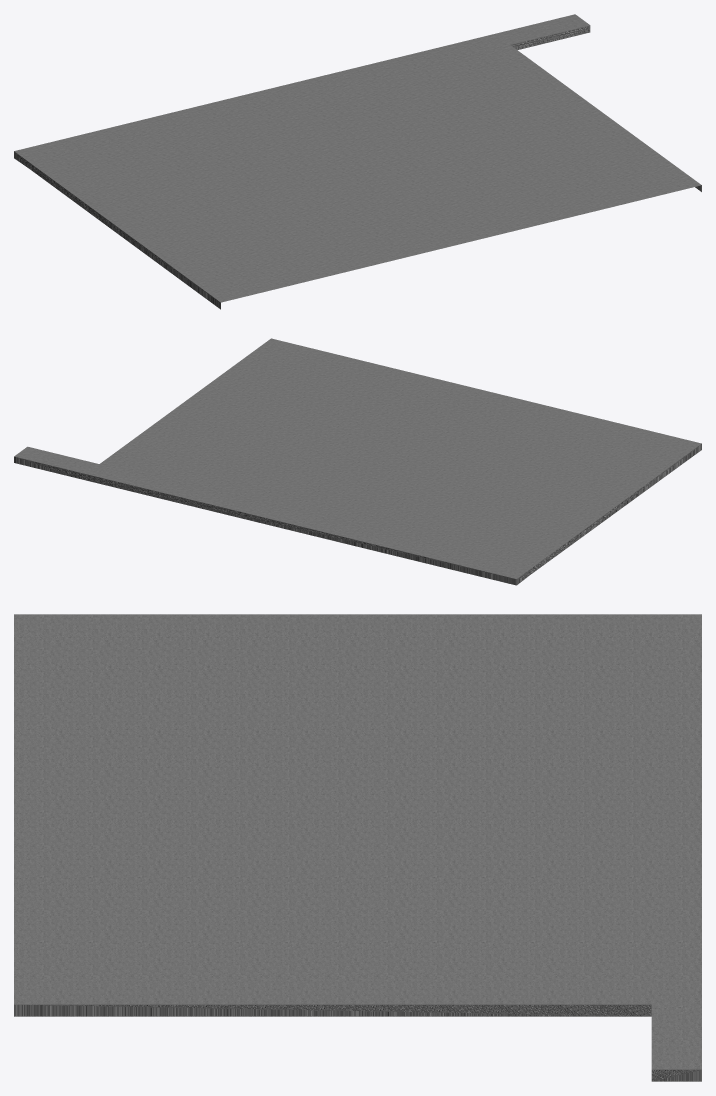
Rendered from POSGRADO-PISO.glb.
3 renders of one model, top to bottom at view 1: azimuth 30°, elevation 25°; view 2: azimuth 150°, elevation 25°; view 3: azimuth 270°, elevation 25°, orthographic. The views are drawn at different scales.
Visible parts, largest first — view 1: Concreto_Posgrado; view 2: Concreto_Posgrado; view 3: Concreto_Posgrado.
Part boxes in pixels (<box>): Concreto_Posgrado: <box>14,14,701,309</box>; Concreto_Posgrado: <box>14,338,701,585</box>; Concreto_Posgrado: <box>14,614,701,1081</box>.
Size of the model in its own units: 1 by 0.0122 by 0.6411.
1 material, 1 textured.
